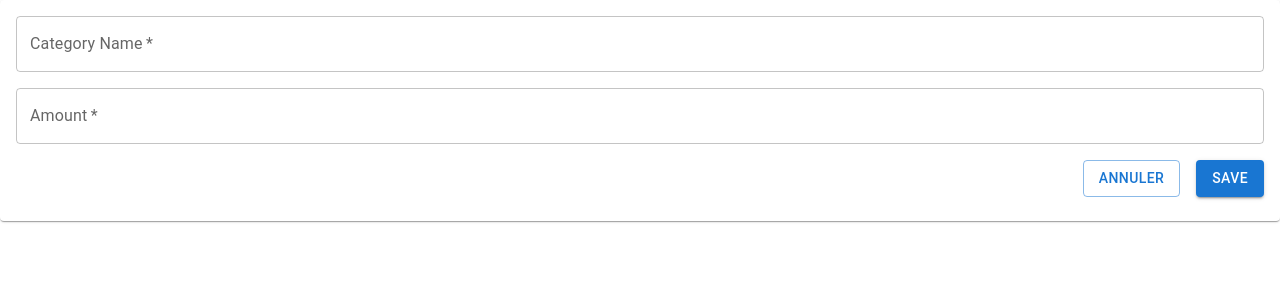
Test: ItemForm Component › should display error message on submit failure
In the field labelled "Category Name *": (640, 44) [16,16,1264,72], type "Test"
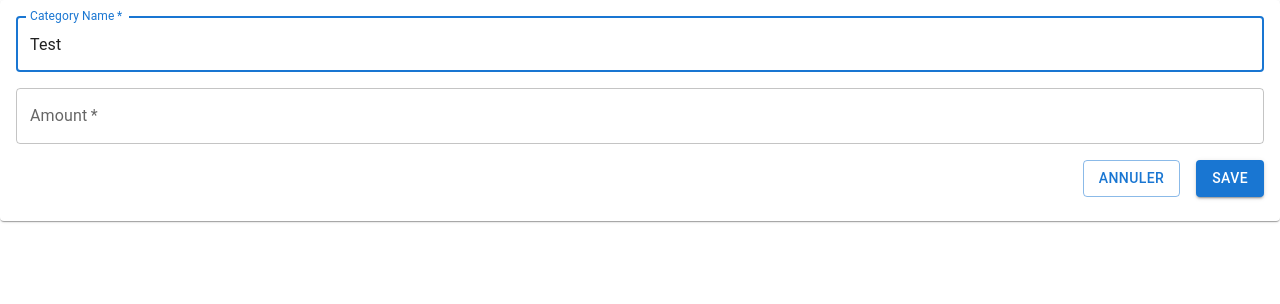
In the field labelled "Amount *": (640, 116) [16,88,1264,144], type "1000"
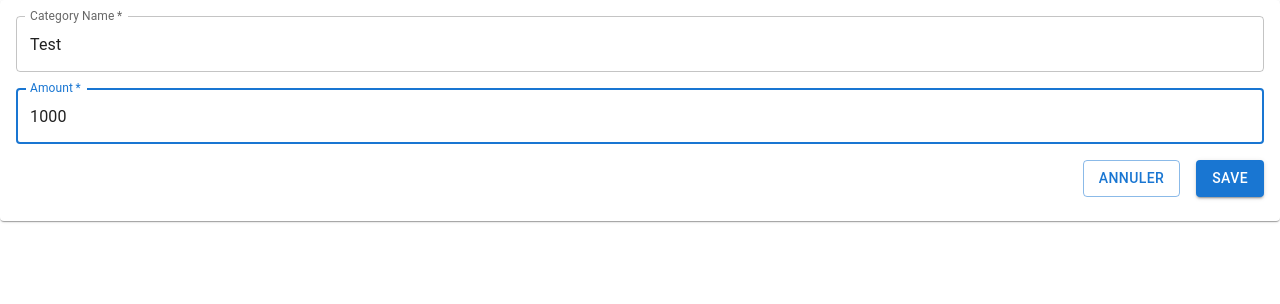
Click the button "Save": (1230, 178) [1196,160,1264,196]
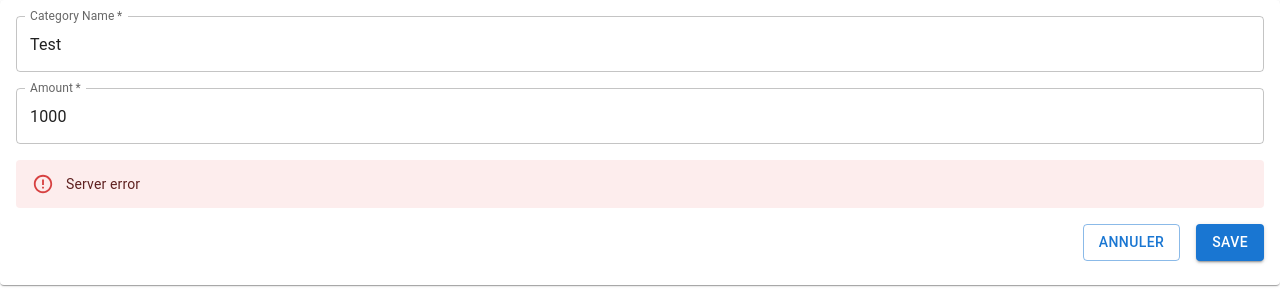
Expected: the text "Server error" is shown, [66,176,140,192]
